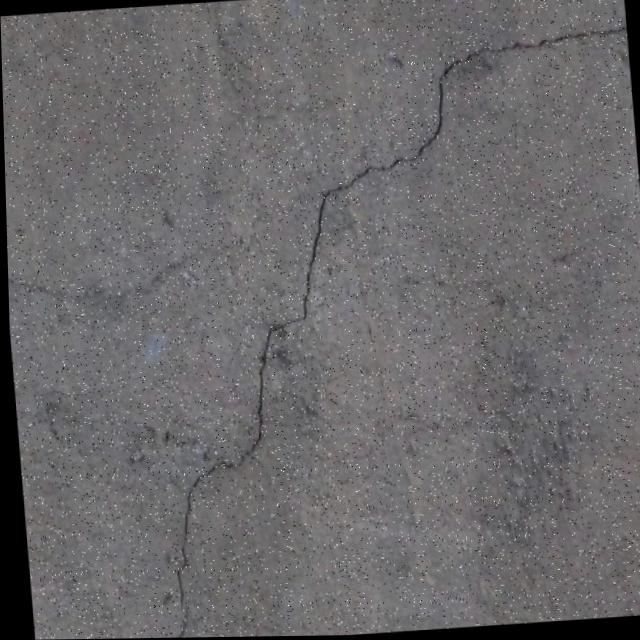Crack: (122, 20, 640, 639)
